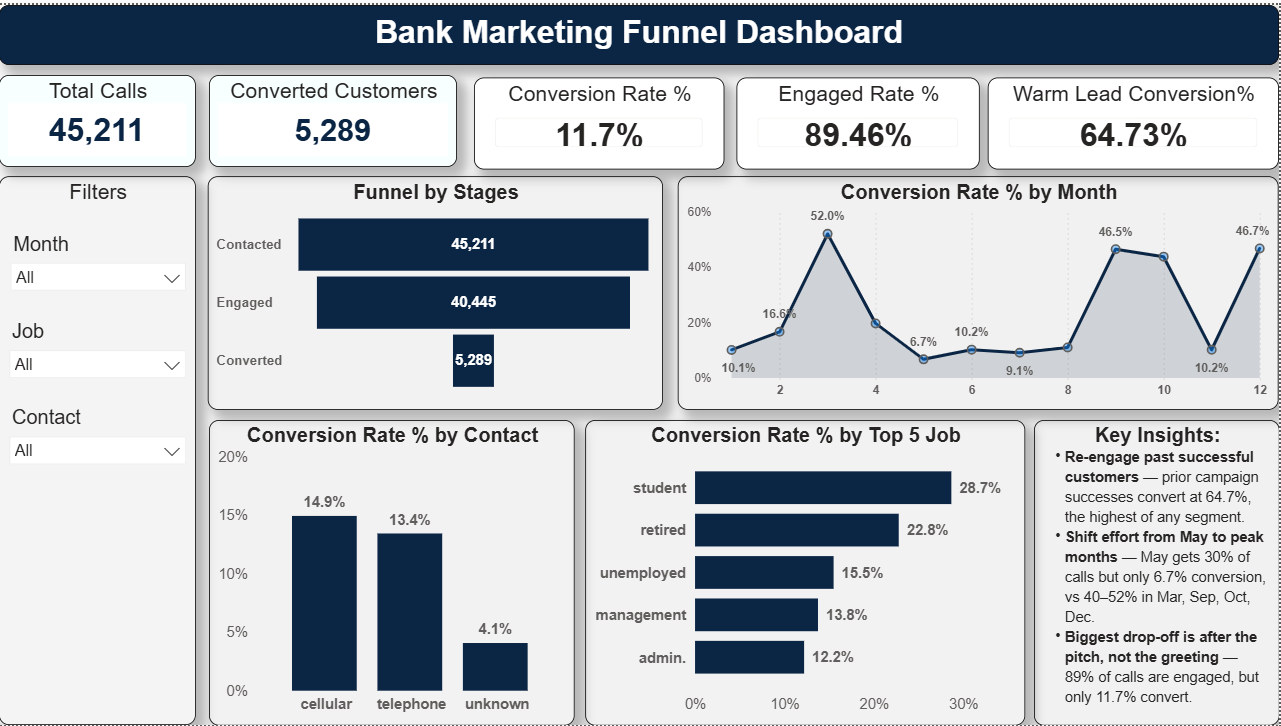

This screenshot's page, from the dashboard's own definition file:
{"tool":"powerbi","page":{"name":"Page 1","canvas":[1280,720],"ordinal":0},"visuals":[{"type":"textbox","box":[0,0,1280.3,59.9],"z":0},{"type":"cardVisual","title":"Total Calls","fields":{"Data":["bank-full.Total Calls"]},"box":[0,70,196.9,91.7],"z":1000},{"type":"cardVisual","title":"Converted Customers","fields":{"Data":["bank-full.Converted Customers"]},"box":[210.3,69.7,248.2,91.7],"z":2000},{"type":"cardVisual","title":"Conversion Rate %","fields":{"Data":["bank-full.Conversion Rate %"]},"box":[474.5,72.1,250.7,91.7],"z":3000},{"type":"cardVisual","title":"Engaged Rate %","fields":{"Data":["bank-full.Engaged Rate %"]},"box":[737.4,72.1,243.3,91.7],"z":4000},{"type":"cardVisual","title":"Warm Lead Conversion%","fields":{"Data":["bank-full.Warm Lead Conversion %"]},"box":[989.3,72.1,291,91.7],"z":5000},{"type":"funnel","title":"Funnel by Stages","fields":{"Category":["Stage Table.Stage"],"Y":["Stage Table.Funnel Value"]},"box":[209.1,171.2,454.9,233.6],"z":6000},{"type":"textbox","title":"Key Insights:","box":[1034.5,414.5,245.8,305.7],"z":7000},{"type":"shape","title":"Filters","box":[0,171.2,196.9,549.1],"z":8000},{"type":"slicer","fields":{"Values":["bank-full.month"]},"box":[1.2,222.6,195.7,86.8],"z":9000},{"type":"slicer","fields":{"Values":["bank-full.job"]},"box":[0,309.4,196.9,86.8],"z":10000},{"type":"slicer","fields":{"Values":["bank-full.contact"]},"box":[0,396.2,196.9,94.2],"z":11000},{"type":"clusteredColumnChart","title":"Conversion Rate % by Contact","fields":{"Category":["bank-full.contact"],"Y":["bank-full.Conversion Rate %"]},"box":[210.3,414.5,365.6,305.7],"z":12000},{"type":"clusteredBarChart","title":"Conversion Rate % by  Top 5 Job","fields":{"Category":["bank-full.job"],"Y":["bank-full.Conversion Rate %"]},"box":[585.7,414.5,440.2,305.7],"z":13000},{"type":"lineChart","title":"Conversion Rate % by Month","fields":{"Y":["bank-full.Conversion Rate %"],"Category":["bank-full.Month Number"]},"box":[679.1,170.9,601.2,233.7],"z":16000}]}

Visuals, with their boxes in screenshot pixels (x1, y1, x2, y2), scaled from the page's 1280x720 canvas onto the 1281x726 screenshot:
textbox: <bbox>0, 0, 1280, 60</bbox>
"Total Calls" cardVisual: <bbox>0, 71, 197, 163</bbox>
"Converted Customers" cardVisual: <bbox>210, 70, 459, 163</bbox>
"Conversion Rate %" cardVisual: <bbox>475, 73, 726, 165</bbox>
"Engaged Rate %" cardVisual: <bbox>738, 73, 981, 165</bbox>
"Warm Lead Conversion%" cardVisual: <bbox>990, 73, 1280, 165</bbox>
"Funnel by Stages" funnel: <bbox>209, 173, 665, 408</bbox>
"Key Insights:" textbox: <bbox>1035, 418, 1280, 725</bbox>
"Filters" shape: <bbox>0, 173, 197, 725</bbox>
slicer - bank-full.month: <bbox>1, 224, 197, 312</bbox>
slicer - bank-full.job: <bbox>0, 312, 197, 400</bbox>
slicer - bank-full.contact: <bbox>0, 400, 197, 494</bbox>
"Conversion Rate % by Contact" clusteredColumnChart: <bbox>210, 418, 576, 725</bbox>
"Conversion Rate % by  Top 5 Job" clusteredBarChart: <bbox>586, 418, 1027, 725</bbox>
"Conversion Rate % by Month" lineChart: <bbox>680, 172, 1280, 408</bbox>
